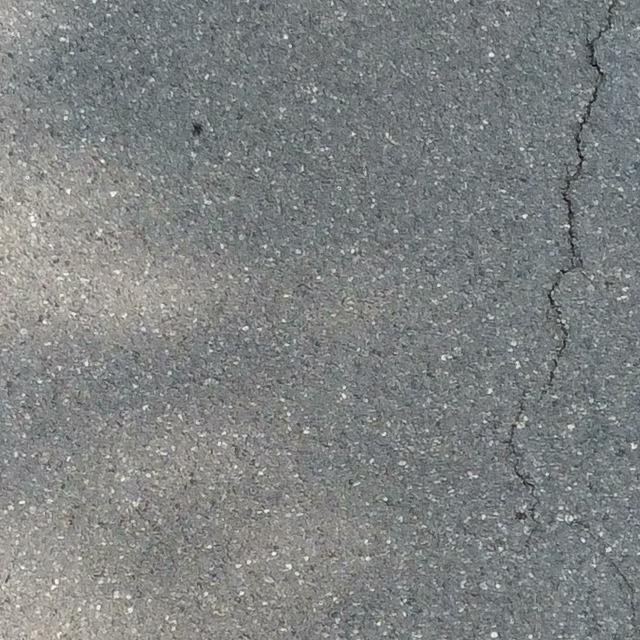LongitudinalCrack: (537, 1, 619, 399), (509, 390, 541, 548)
